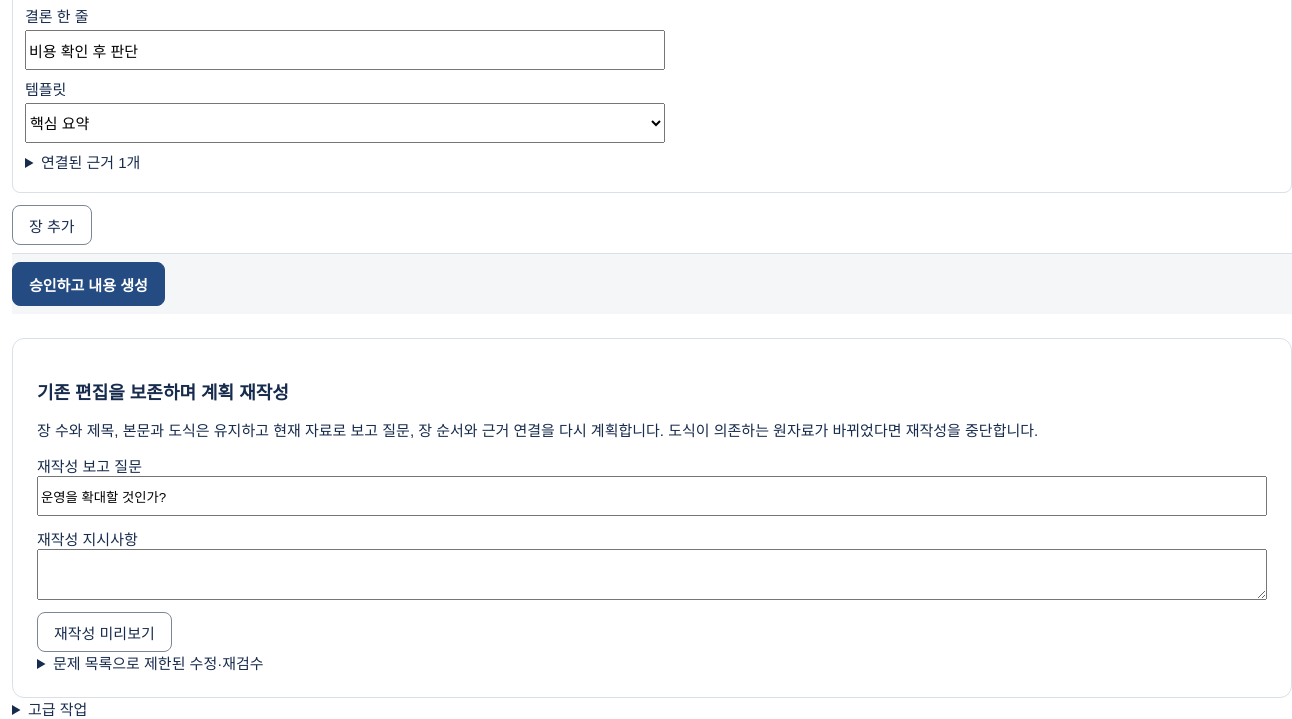
Test: 수리 실행 중단은 취소를 요청하고, 작업이 취소로 끝난 뒤에만 취소 완료를 알린다 (지금은 즉시 알린다)
(page scrolled)
Click the heading "문제 목록으로 제한된 수정·재검수": click(158, 664) [53,655,264,672]
(page scrolled)
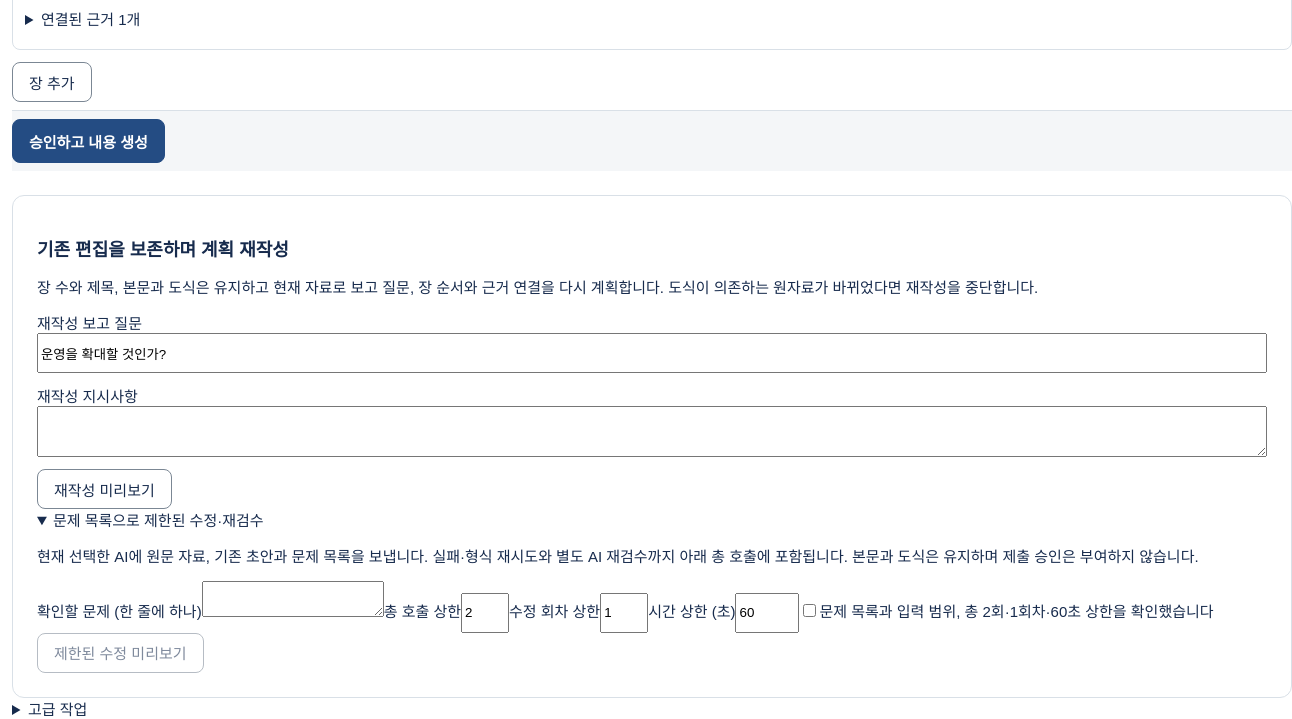
In the text box named "수정 문제 목록": (293, 599) [202,581,384,617], type "근거가 약하다"
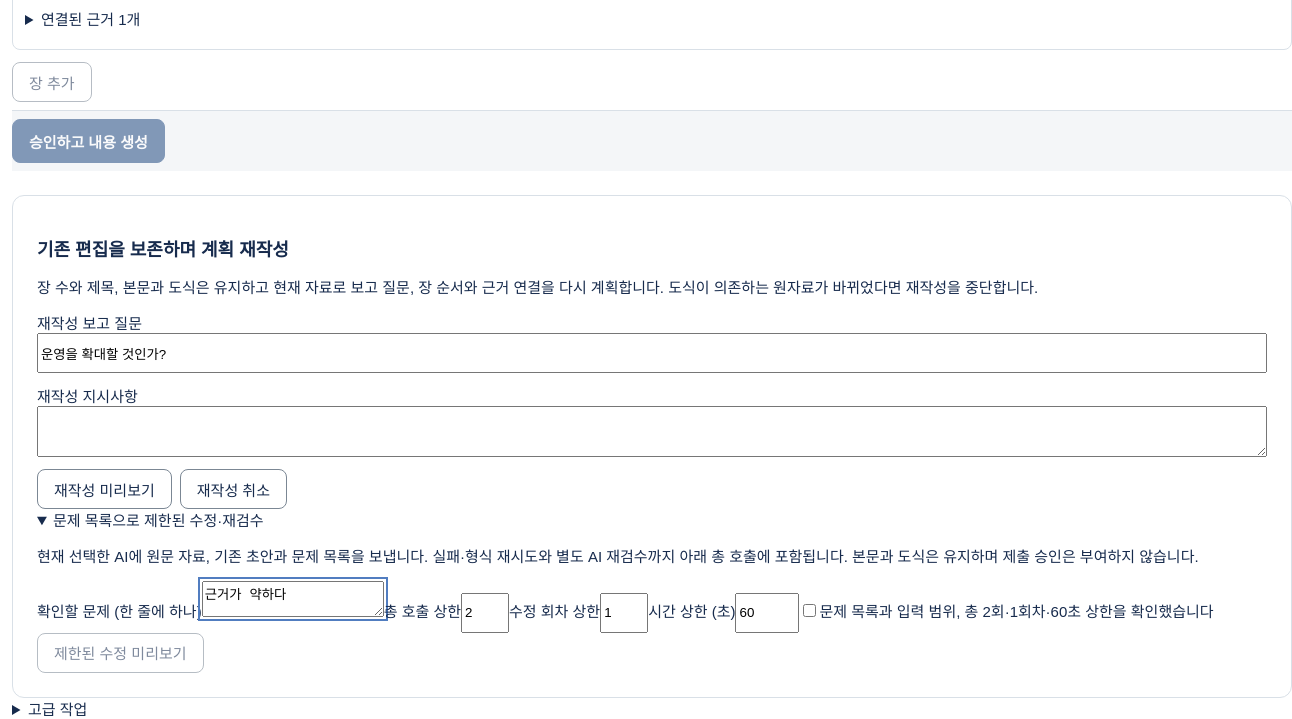
Click the checkbox labelled "문제 목록과 입력 범위, 총 2회·1회차·60초 상한을 확인했습니다": click(810, 611) [804,604,816,617]
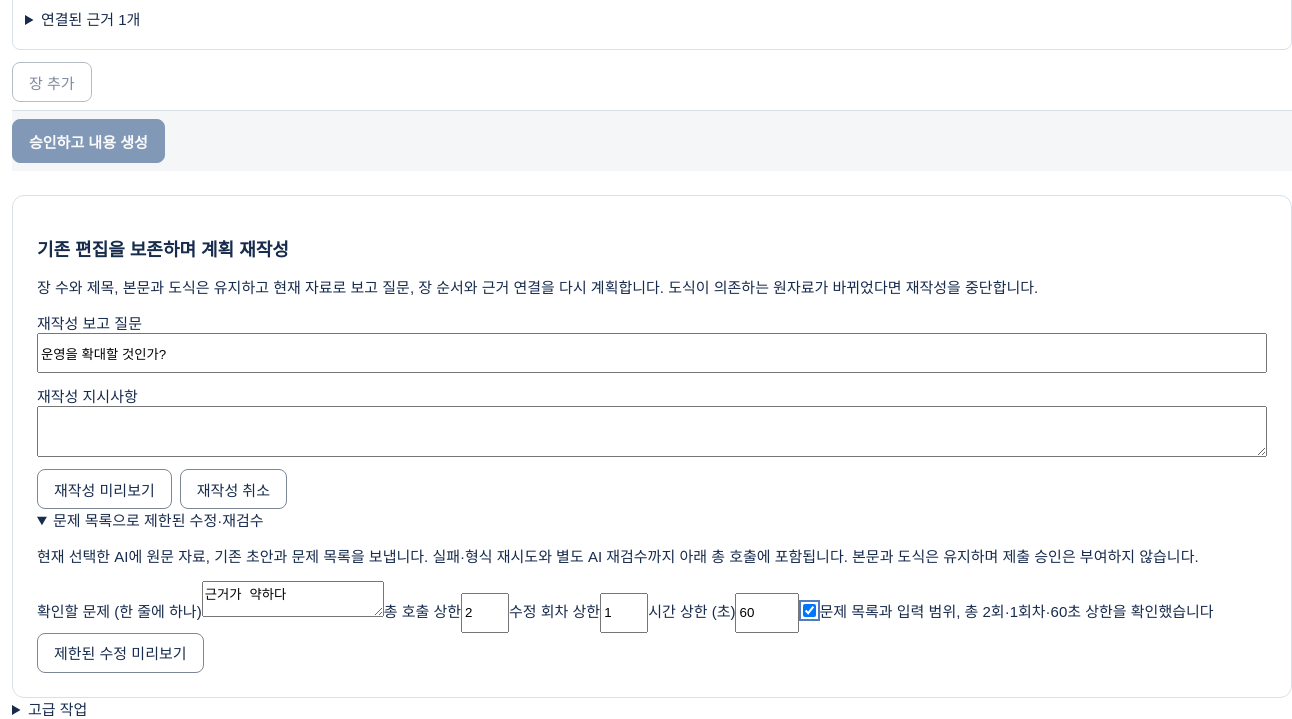
Click the button "제한된 수정 미리보기": click(120, 653) [37,633,204,673]
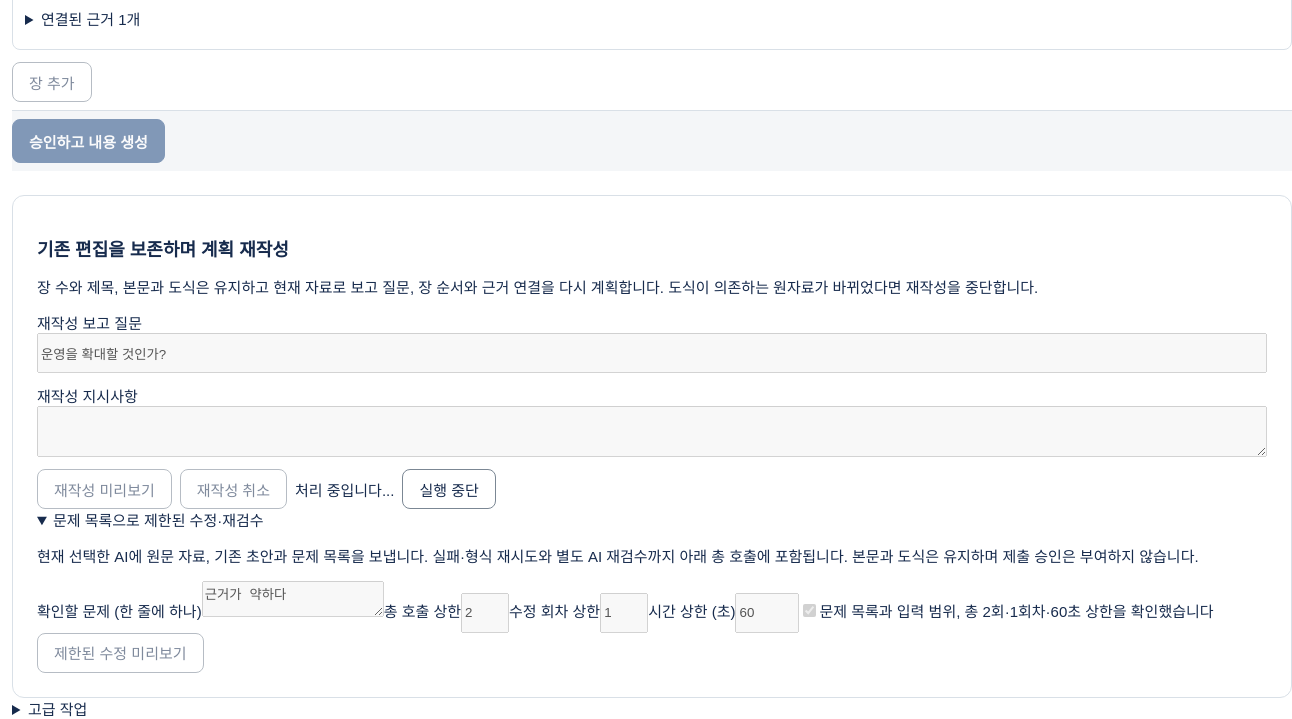
Click the button "실행 중단": click(449, 489) [402,469,496,509]
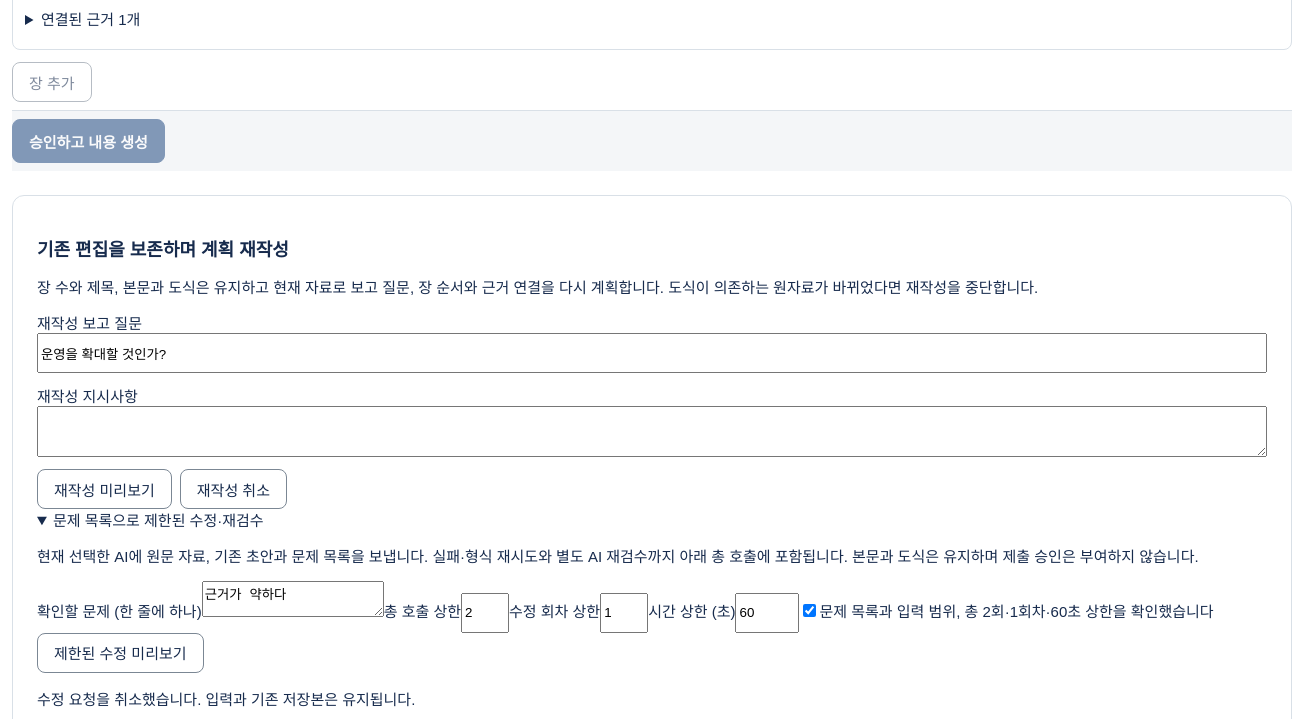
Expected: the text "수정 요청을 취소했습니다. 입력과 기존 저장본은 유지됩니다." is shown, [37,691,415,708]
